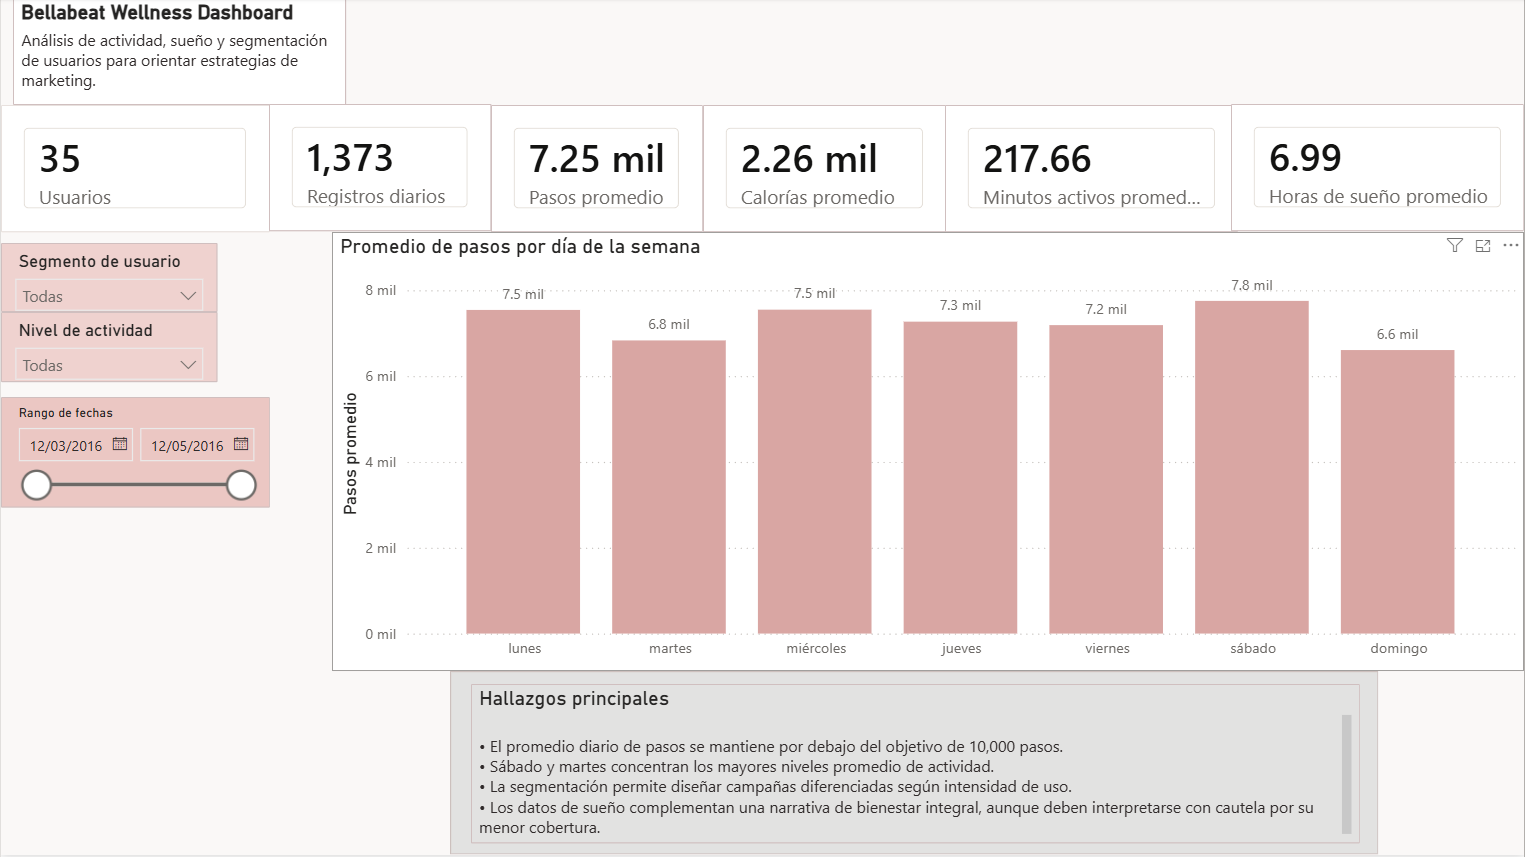

The dashboard page shown, as its layout file describes it:
{"tool":"powerbi","page":{"name":"Resumen ejecutivo","canvas":[1280,720],"ordinal":0},"visuals":[{"type":"shape","box":[376.9,565.8,780.3,154.3],"z":0},{"type":"textbox","title":"Bellabeat Wellness Dashboard","box":[10.3,0,280,89.6],"z":1000},{"type":"cardVisual","fields":{"Data":["Medidas.Usuarios"]},"box":[0,89.6,225.6,106.5],"z":2000},{"type":"cardVisual","fields":{"Data":["Medidas.Registros diarios texto"]},"box":[225.2,89,186.8,106.6],"z":3000},{"type":"cardVisual","fields":{"Data":["Medidas.Calorías promedio"]},"box":[589.9,89.8,204.4,106.6],"z":4000},{"type":"cardVisual","fields":{"Data":["Medidas.Pasos promedio"]},"box":[412,89.8,177.9,106.6],"z":5000},{"type":"cardVisual","fields":{"Data":["Medidas.Minutos activos promedio"]},"box":[793.5,89.8,246.1,106.6],"z":6000},{"type":"cardVisual","fields":{"Data":["Medidas.Horas de sueño promedio"]},"box":[1033.9,89,246.1,106.6],"z":7000},{"type":"clusteredColumnChart","title":"Promedio de pasos por día de la semana","fields":{"Category":["bellabeat_analysis_dataset.day_of_week"],"Y":["Medidas.Pasos promedio"]},"box":[278.1,196.4,1001.9,369.5],"z":8000},{"type":"slicer","fields":{"Values":["bellabeat_analysis_dataset.activity_date"]},"box":[0,335.1,225.6,92.6],"z":9000},{"type":"slicer","fields":{"Values":["bellabeat_analysis_dataset.activity_level"]},"box":[0,263.7,181.9,58.5],"z":10000},{"type":"slicer","fields":{"Values":["user_segments.user_segment"]},"box":[0,206,181.9,57.7],"z":11000},{"type":"textbox","title":"Hallazgos principales","box":[395.3,576.8,747.3,134.5],"z":12000}]}

Visuals, with their boxes in screenshot pixels (x1, y1, x2, y2), scaled from the page's 1280x720 canvas onto the 1525x857 screenshot:
shape: (449,673,1379,856)
"Bellabeat Wellness Dashboard" textbox: (12,0,346,107)
cardVisual - Medidas.Usuarios: (0,107,269,233)
cardVisual - Medidas.Registros diarios texto: (268,106,491,233)
cardVisual - Medidas.Calorías promedio: (703,107,946,234)
cardVisual - Medidas.Pasos promedio: (491,107,703,234)
cardVisual - Medidas.Minutos activos promedio: (945,107,1239,234)
cardVisual - Medidas.Horas de sueño promedio: (1232,106,1524,233)
"Promedio de pasos por día de la semana" clusteredColumnChart: (331,234,1524,674)
slicer - bellabeat_analysis_dataset.activity_date: (0,399,269,509)
slicer - bellabeat_analysis_dataset.activity_level: (0,314,217,384)
slicer - user_segments.user_segment: (0,245,217,314)
"Hallazgos principales" textbox: (471,687,1361,847)
